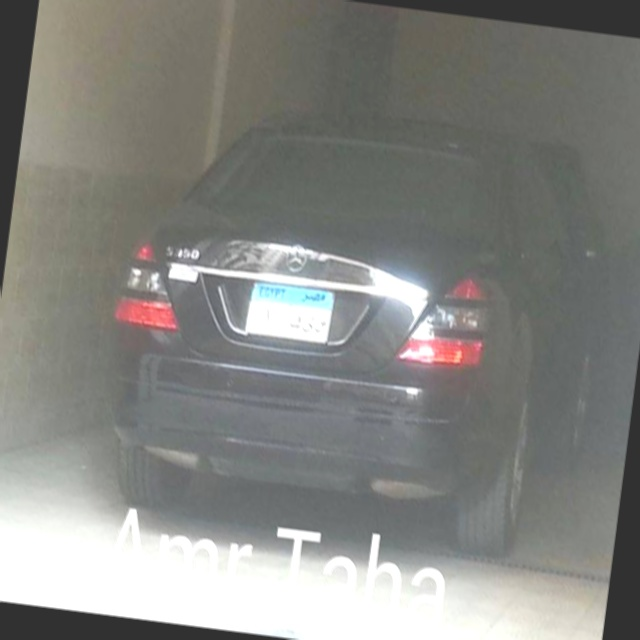License Plate: (241, 277, 337, 350)
